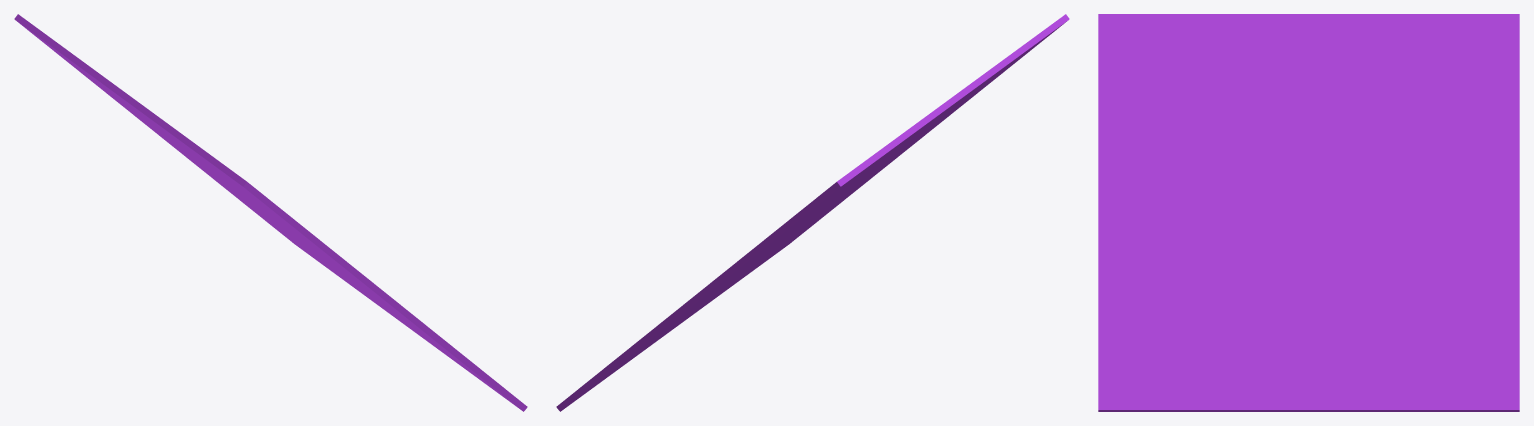
3 renders of one model, left to right at view 1: azimuth 30°, elevation 25°; view 2: azimuth 150°, elevation 25°; view 3: azimuth 270°, elevation 25°, orthographic. The views are drawn at different scales.
Parts seen in each view (by area): view 1: Plano_vf_Plano2_Cubo.008; view 2: Plano_vf_Plano2_Cubo.008; view 3: Plano_vf_Plano2_Cubo.008.
Boxes of the visible parts, <box> form: Plano_vf_Plano2_Cubo.008: <box>14,14,527,411</box>; Plano_vf_Plano2_Cubo.008: <box>556,14,1069,411</box>; Plano_vf_Plano2_Cubo.008: <box>1098,14,1519,411</box>.
Size of the model in its own units: 1.51 by 1.51 by 2.1.
